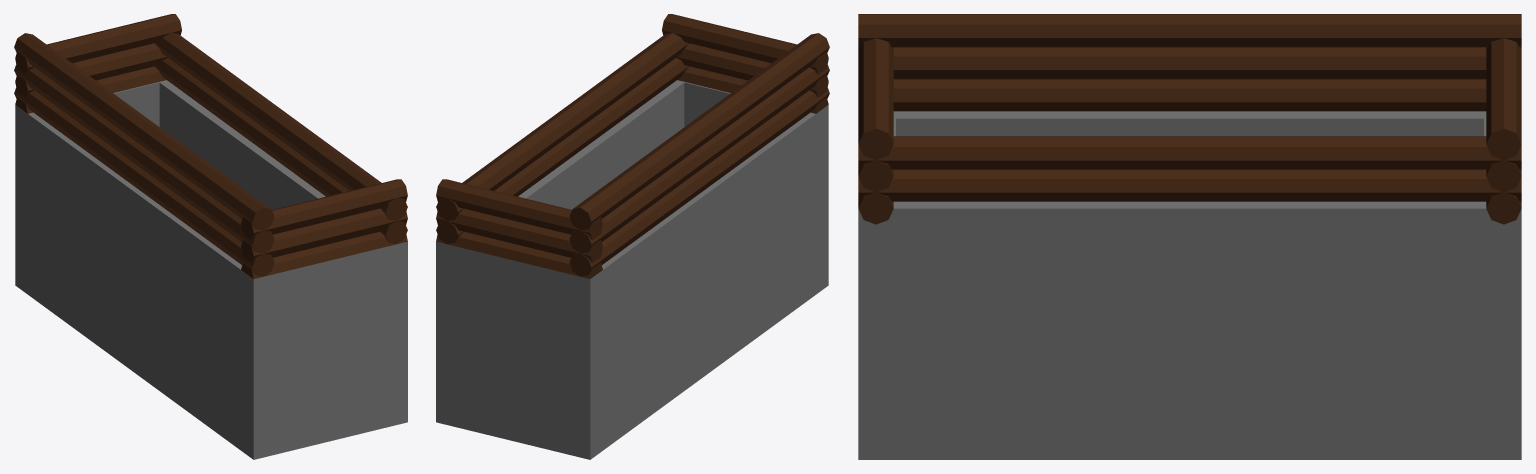
File: ChaletDepot.fbx
3 views of the same model, side by side, from view 1: azimuth 30°, elevation 25°; view 2: azimuth 150°, elevation 25°; view 3: azimuth 270°, elevation 25° (orthographic). The views are drawn at different scales.
Parts seen in each view (by area): view 1: Depot; view 2: Depot; view 3: Depot.
Boxes of the visible parts, x1,y1,x2,y2 form: Depot: [14, 14, 407, 459]; Depot: [436, 14, 829, 459]; Depot: [858, 14, 1521, 459].
Size of the model in its own units: 5.64 by 15 by 8.67.
